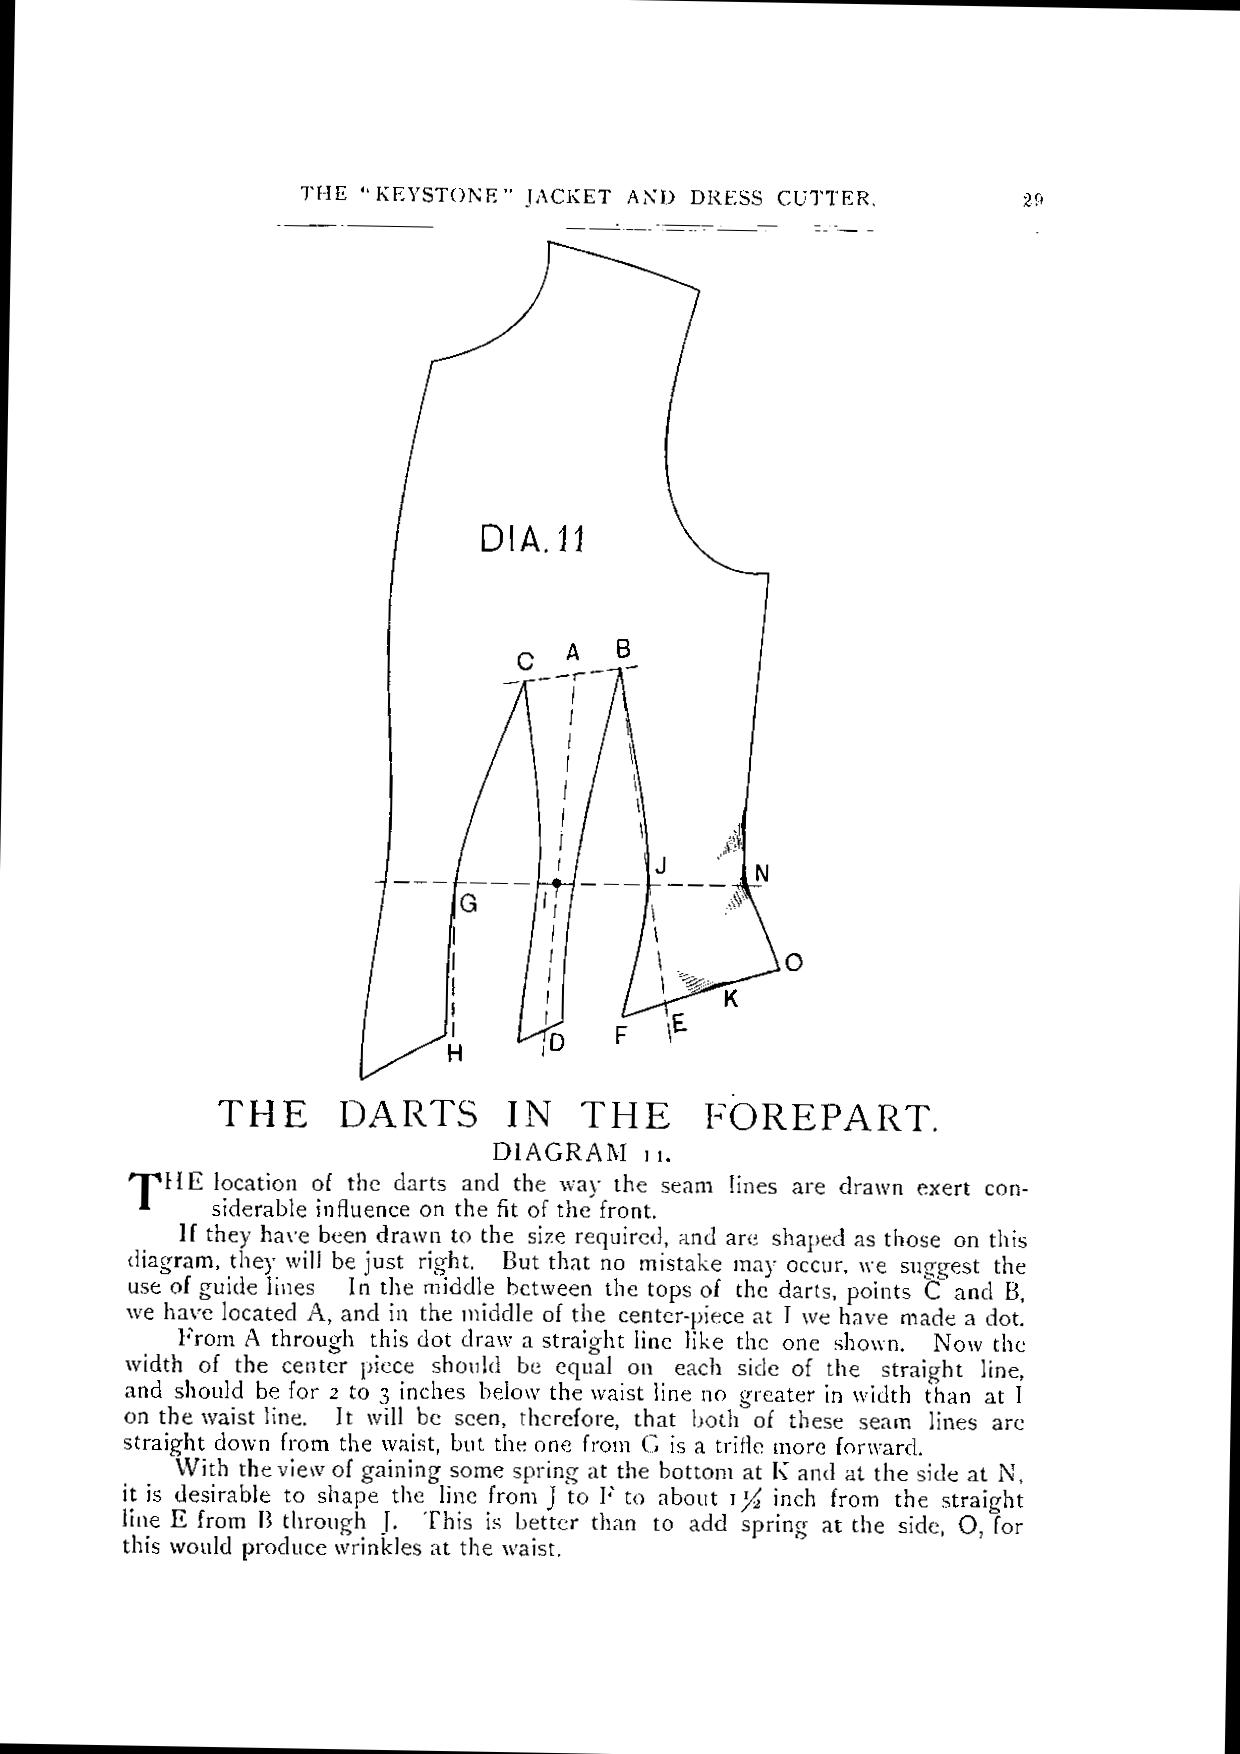chapter: (215, 1086, 946, 1135)
content: (111, 1168, 1039, 1567)
content_chapter: (293, 178, 880, 215)
content_pagenumber: (1017, 187, 1048, 209)
